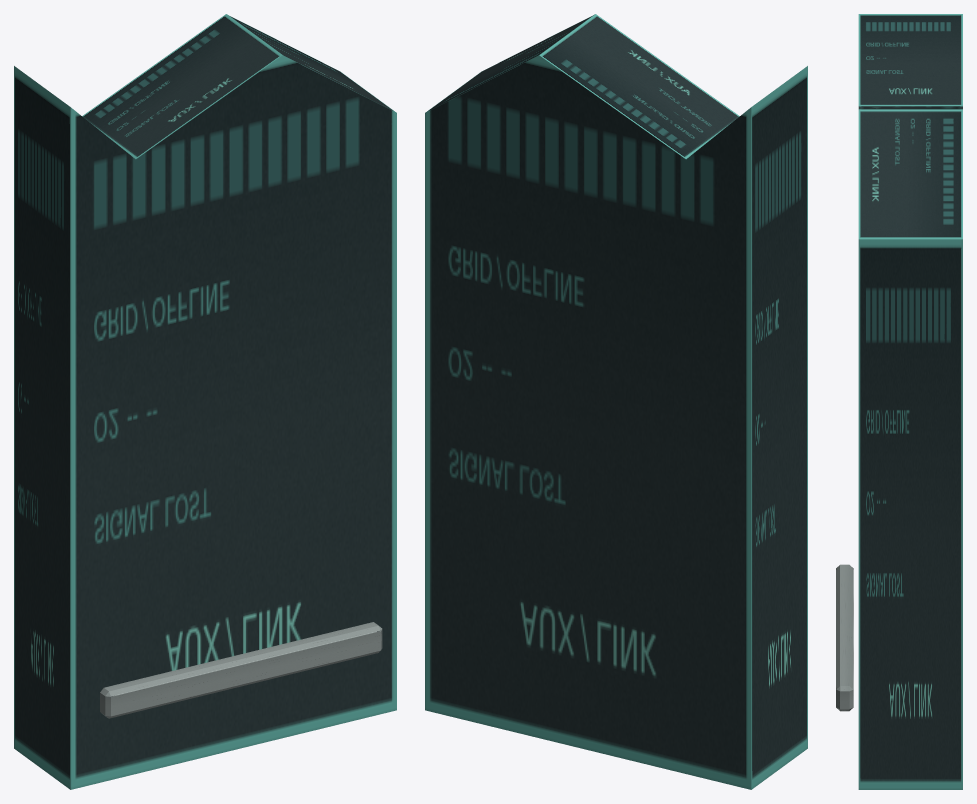
File: wall_shard_c_LOD1.obj
3 renders of one model, left to right at view 1: azimuth 30°, elevation 25°; view 2: azimuth 150°, elevation 25°; view 3: azimuth 270°, elevation 25°, orthographic. The views are drawn at different scales.
Parts seen in each view (by area): view 1: L02_wall_shard_c_LOD1; view 2: L02_wall_shard_c_LOD1; view 3: L02_wall_shard_c_LOD1.
Boxes of the visible parts, <box> form: L02_wall_shard_c_LOD1: <box>14,14,396,789</box>; L02_wall_shard_c_LOD1: <box>425,14,807,789</box>; L02_wall_shard_c_LOD1: <box>836,14,962,789</box>.
Bounding box in the file's own units: 1 × 2 × 0.365.
Materials: 1 (1 with a texture image).
